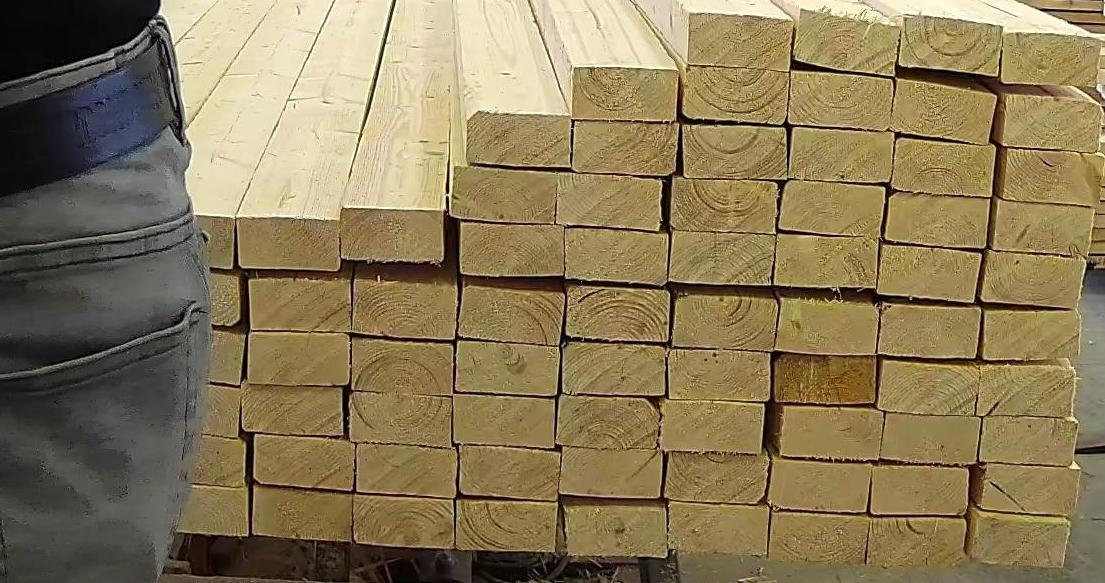Wood-Plank: (796, 7, 899, 78), (236, 204, 340, 270), (450, 164, 560, 226), (248, 266, 349, 332), (968, 505, 1073, 568), (563, 497, 668, 558), (895, 80, 998, 142), (673, 290, 779, 350), (789, 70, 895, 130), (355, 278, 459, 339), (981, 249, 1088, 308), (893, 136, 998, 196), (997, 148, 1105, 206), (991, 197, 1096, 256), (683, 64, 789, 122), (776, 295, 880, 354), (461, 287, 563, 347), (780, 179, 887, 236), (566, 284, 671, 342), (671, 176, 779, 232), (902, 16, 1002, 76), (972, 462, 1083, 516), (465, 110, 571, 166), (886, 191, 990, 248), (775, 406, 884, 460), (558, 174, 663, 230), (879, 245, 982, 302), (690, 12, 793, 69), (1005, 92, 1099, 154), (566, 228, 670, 284), (792, 126, 896, 182), (456, 340, 560, 396), (769, 456, 872, 512), (880, 302, 983, 358), (572, 120, 678, 174), (683, 123, 787, 178), (563, 341, 667, 396), (556, 394, 660, 449), (573, 65, 677, 120), (879, 360, 981, 416), (352, 337, 452, 394), (1003, 30, 1098, 90), (672, 230, 777, 284), (661, 400, 766, 454), (775, 233, 878, 288), (340, 208, 444, 262), (460, 222, 564, 276), (459, 445, 561, 500), (252, 486, 352, 542), (349, 391, 450, 446), (980, 360, 1079, 416), (240, 383, 343, 436), (249, 332, 350, 386), (253, 436, 354, 490), (669, 501, 771, 554), (357, 444, 457, 498), (665, 452, 768, 504), (670, 349, 771, 402), (455, 499, 556, 552), (354, 496, 455, 548), (161, 322, 245, 384), (772, 512, 872, 564), (454, 396, 554, 448), (144, 211, 235, 268), (559, 448, 662, 498), (868, 517, 968, 568), (776, 353, 876, 404), (882, 414, 983, 464), (872, 465, 969, 516), (982, 417, 1081, 466), (986, 310, 1083, 360), (163, 265, 241, 326), (160, 434, 245, 488), (161, 380, 239, 438), (158, 485, 246, 536)
